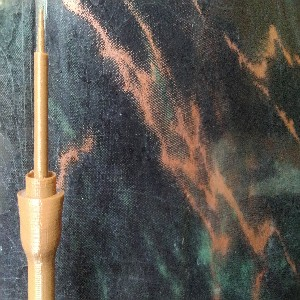solder: (16, 4, 65, 300)
